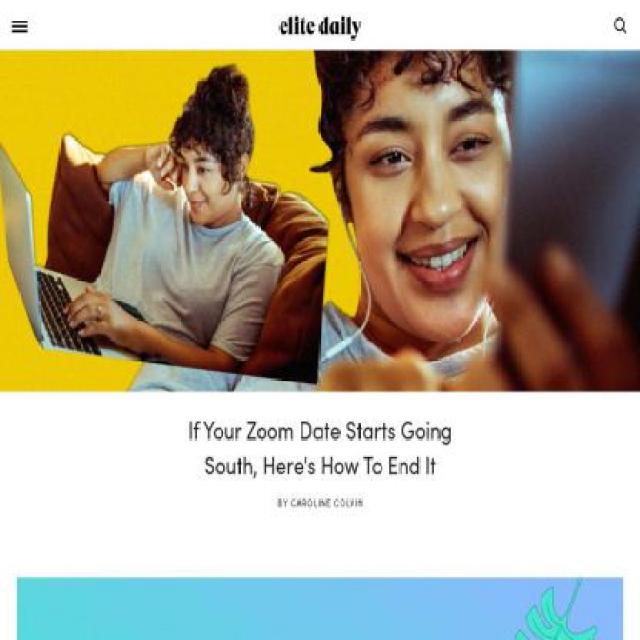button: (0, 49, 640, 538), (16, 577, 624, 638), (271, 0, 369, 51)
